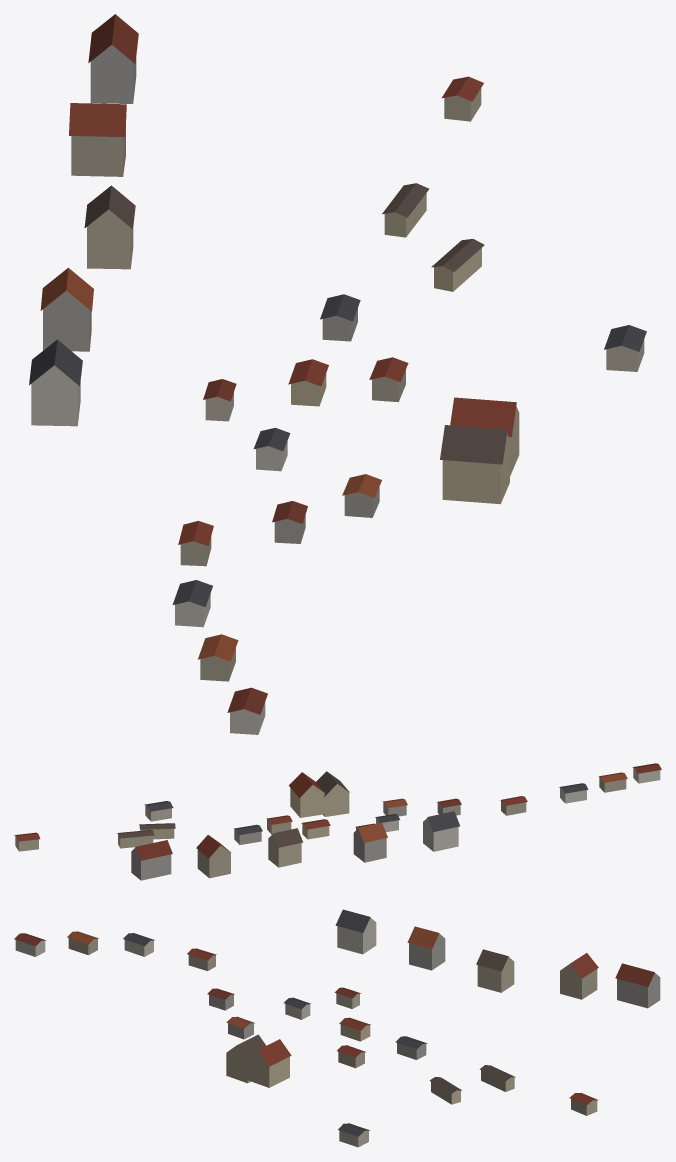
3 renders of one model, top to bottom at view 1: azimuth 30°, elevation 25°; view 2: azimuth 150°, elevation 25°; view 3: azimuth 270°, elevation 25°, orthographic. The views are drawn at different scales.
Visible parts, largest first — view 1: buildings; view 2: buildings; view 3: buildings.
Part boxes in pixels (<box>): buildings: <box>29,14,646,734</box>; buildings: <box>14,763,661,880</box>; buildings: <box>14,909,660,1147</box>.
Size of the model in its own units: 116 by 28.63 by 155.
